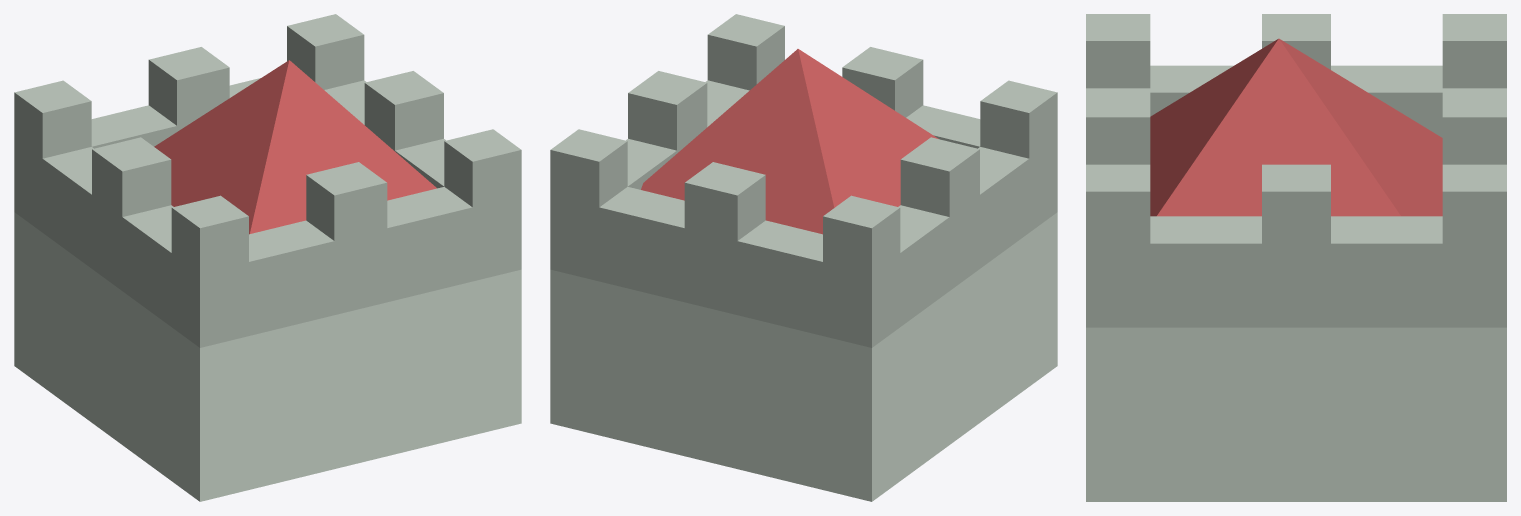
The model's file is tile_051.fbx.
The picture shows the model from 3 angles, left to right: view 1: azimuth 30°, elevation 25°; view 2: azimuth 150°, elevation 25°; view 3: azimuth 270°, elevation 25°; orthographic projection. The views are drawn at different scales.
Parts seen in each view (by area): view 1: tile_051, Group; view 2: tile_051, Group; view 3: tile_051, Group.
Boxes of the visible parts, bbox=[...] form: tile_051: bbox=[14, 14, 521, 501]; Group: bbox=[154, 60, 436, 234]; tile_051: bbox=[550, 14, 1057, 501]; Group: bbox=[641, 49, 938, 234]; tile_051: bbox=[1086, 14, 1506, 501]; Group: bbox=[1150, 38, 1442, 216].
Bounding box in the file's own units: 5.9 × 5.91 × 5.9.
